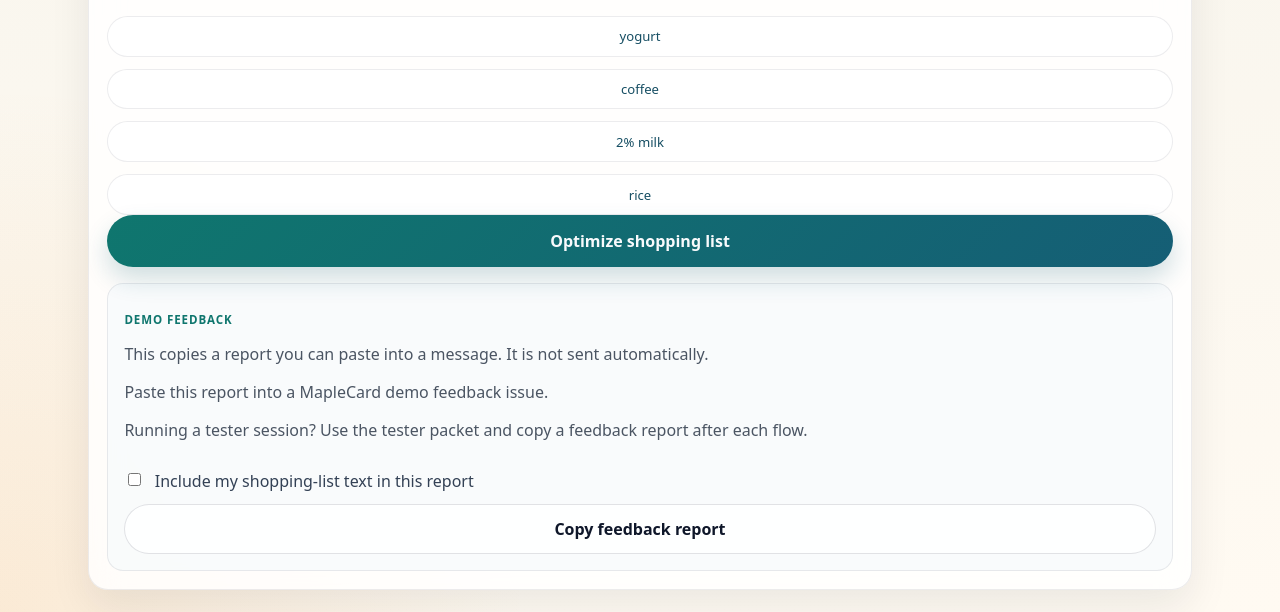
Test case: MapleCard mobile web scaffold › shows a manual-copy report when the clipboard API is unavailable
(page scrolled)
Click the checkbox labelled "Include my shopping-list text in this report".
click(135, 479)  # box x1=128 y1=473 x2=141 y2=486
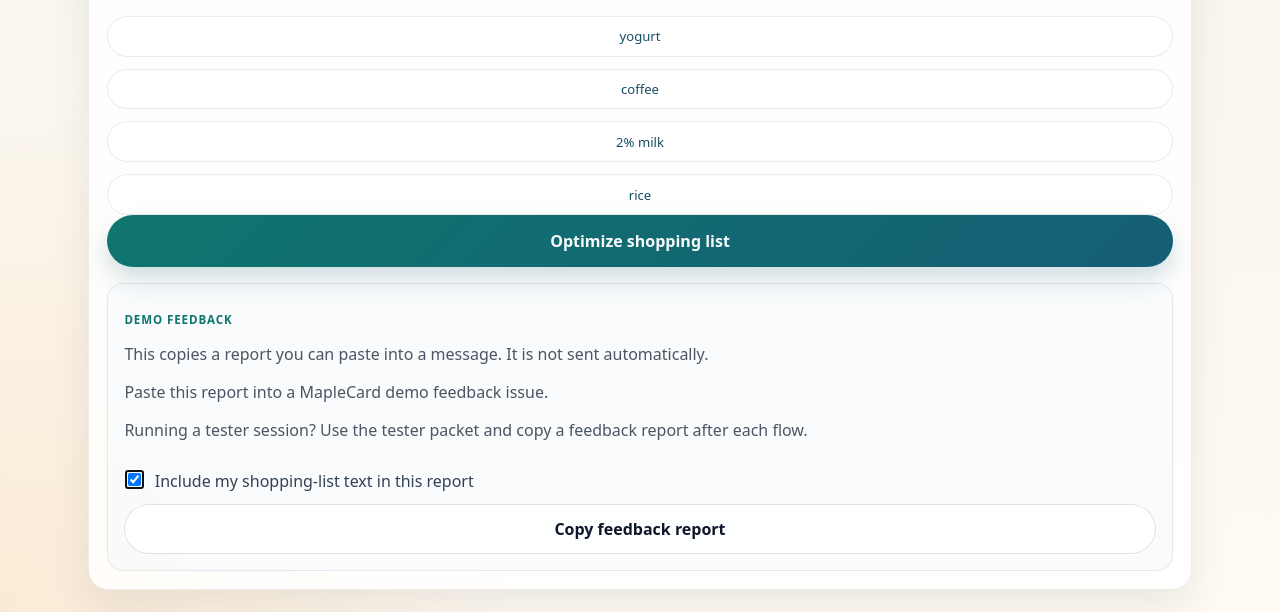
Click the button "Copy feedback report".
click(640, 529)  # box x1=124 y1=504 x2=1156 y2=554
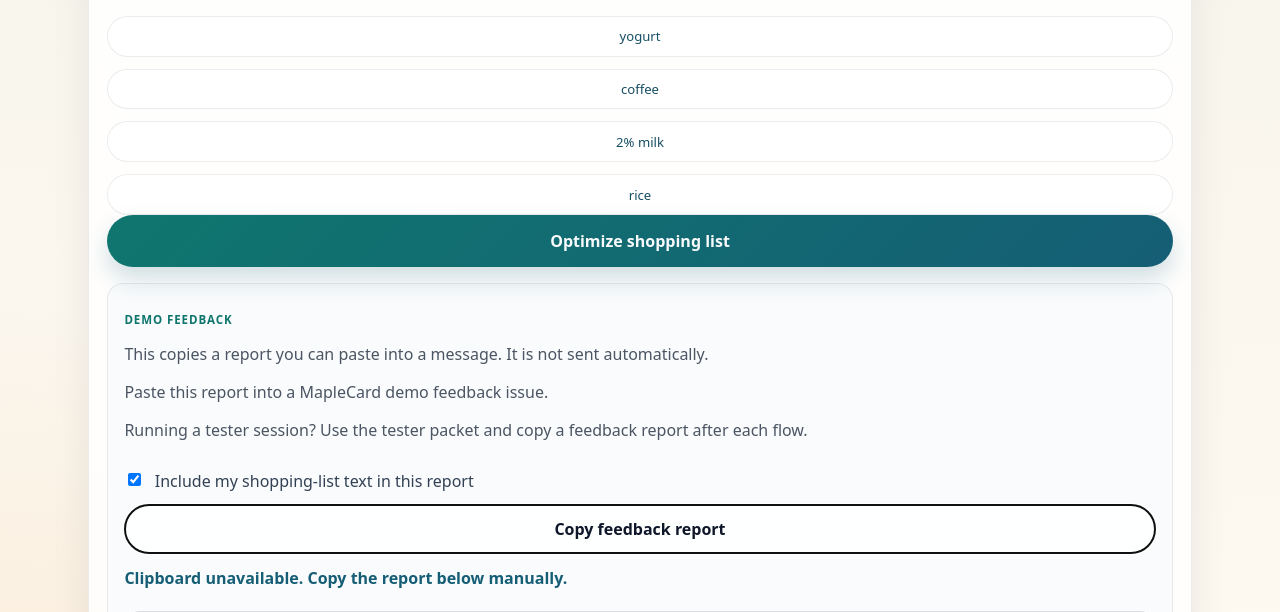
Expected: the message shows "Clipboard unavailable", x1=124 y1=567 x2=567 y2=589
